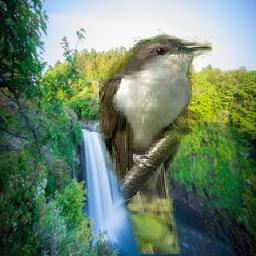Cuckoo: (100, 30, 213, 255)
